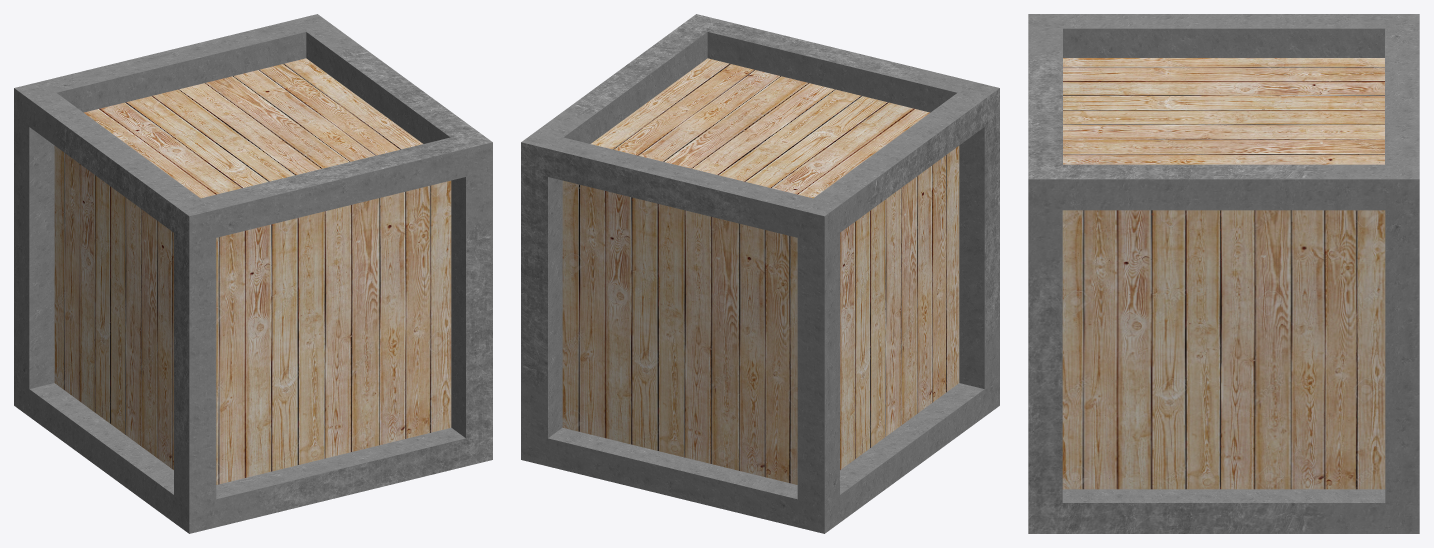
File: cassa.fbx
The picture shows the model from 3 angles, left to right: view 1: azimuth 30°, elevation 25°; view 2: azimuth 150°, elevation 25°; view 3: azimuth 270°, elevation 25°; orthographic projection. The views are drawn at different scales.
Visible parts, largest first — view 1: Cassa; view 2: Cassa; view 3: Cassa.
Boxes of the visible parts, x1,y1,x2,y2 form: Cassa: [14, 14, 492, 533]; Cassa: [521, 14, 999, 533]; Cassa: [1028, 14, 1419, 533].
Bounding box in the file's own units: 0.6514 × 0.6514 × 0.6514.
Materials: 1 (1 with a texture image).
